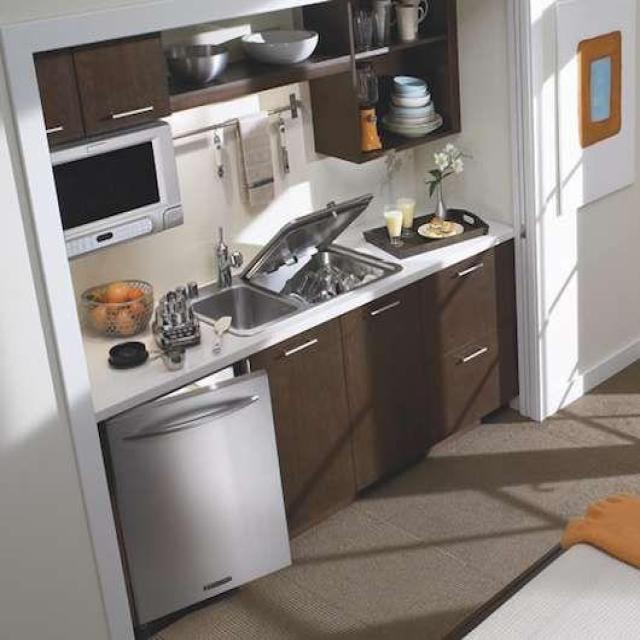dishwasher: (101, 344, 294, 640)
